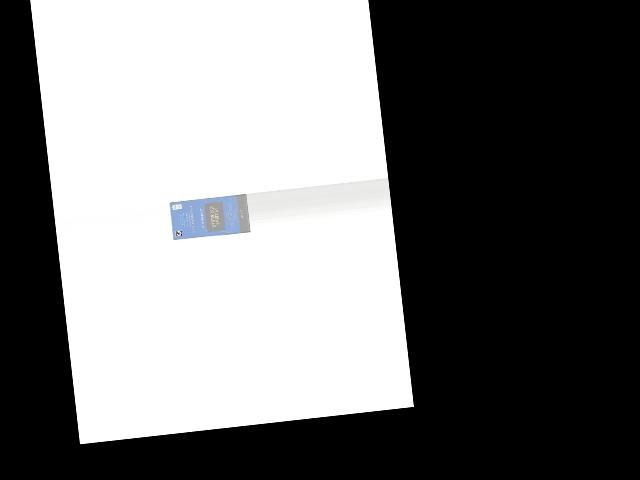chocolate: (170, 193, 250, 240)
